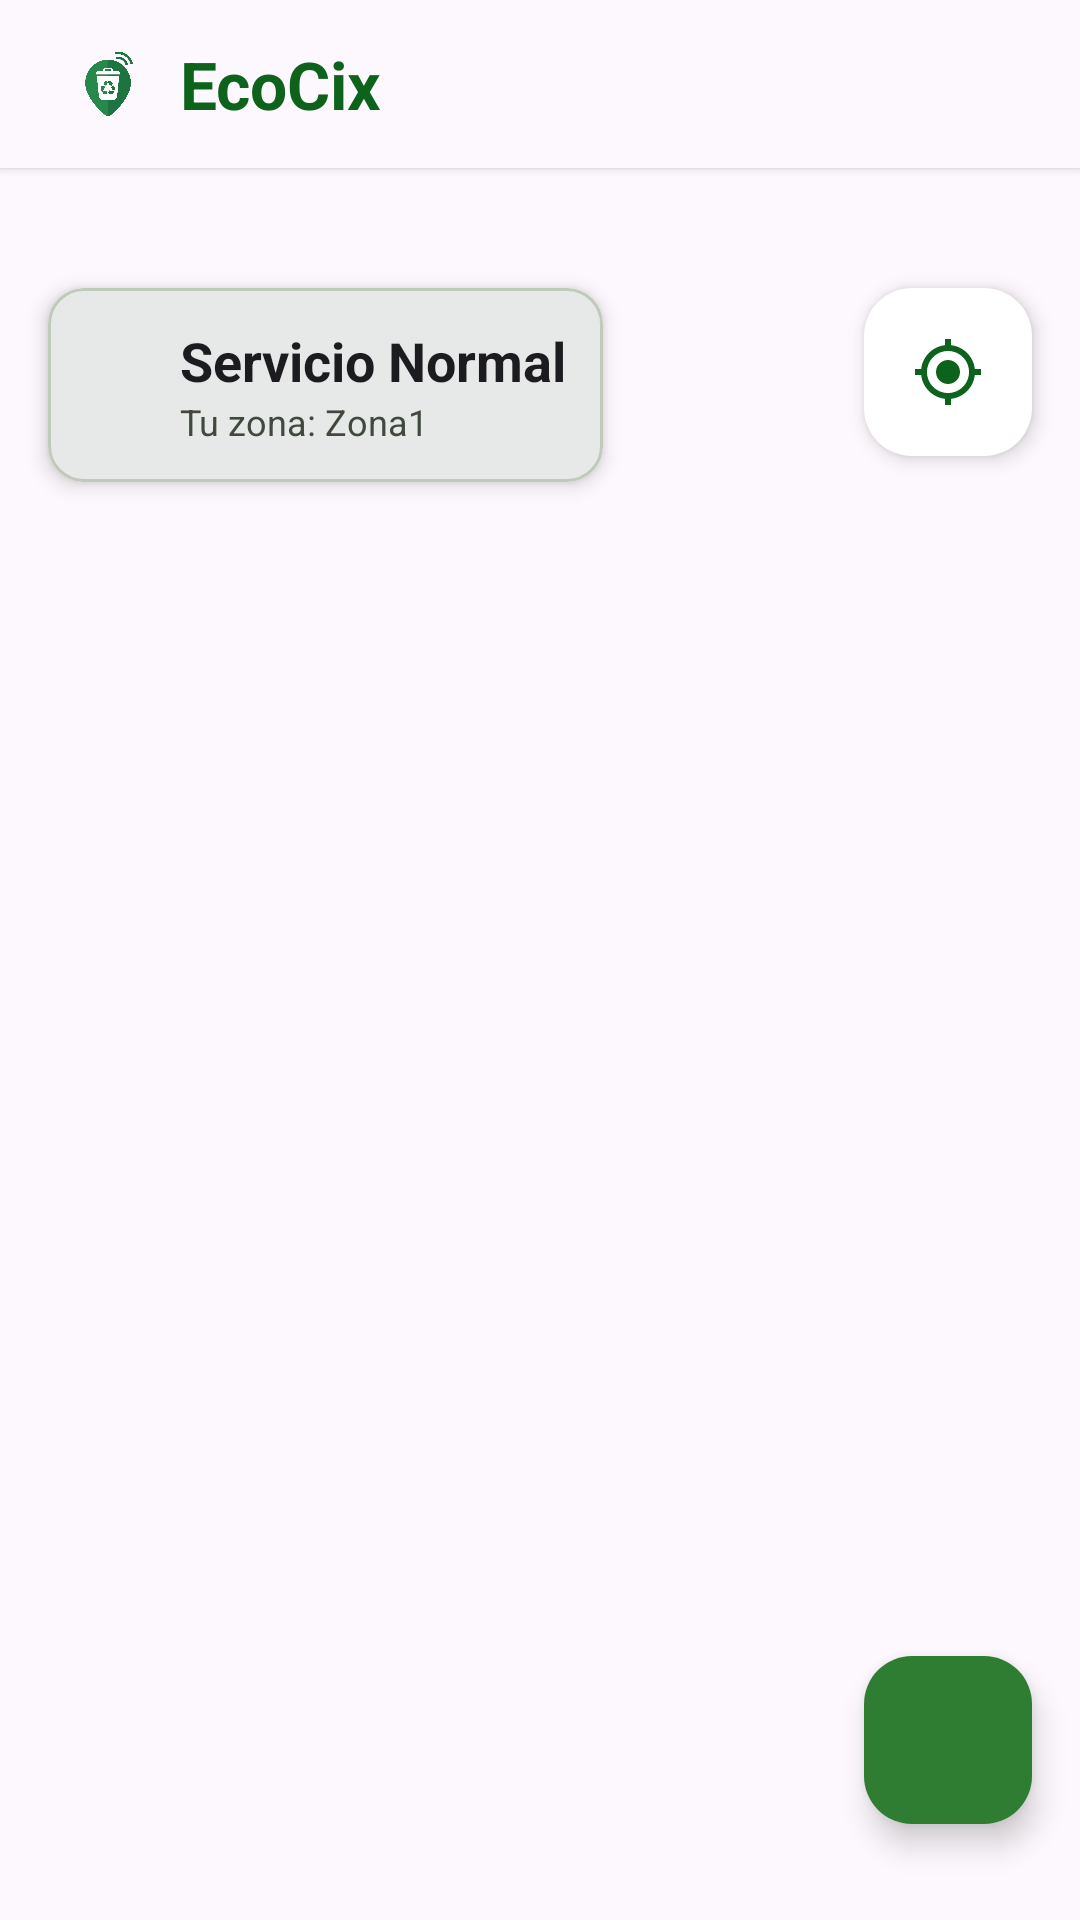

Named icons in this screenshot (1080 × 1920) and their bounding boxes, (x1, y1, x2, y2):
Usar ubicación actual (GPS): (864, 288, 1032, 456)
